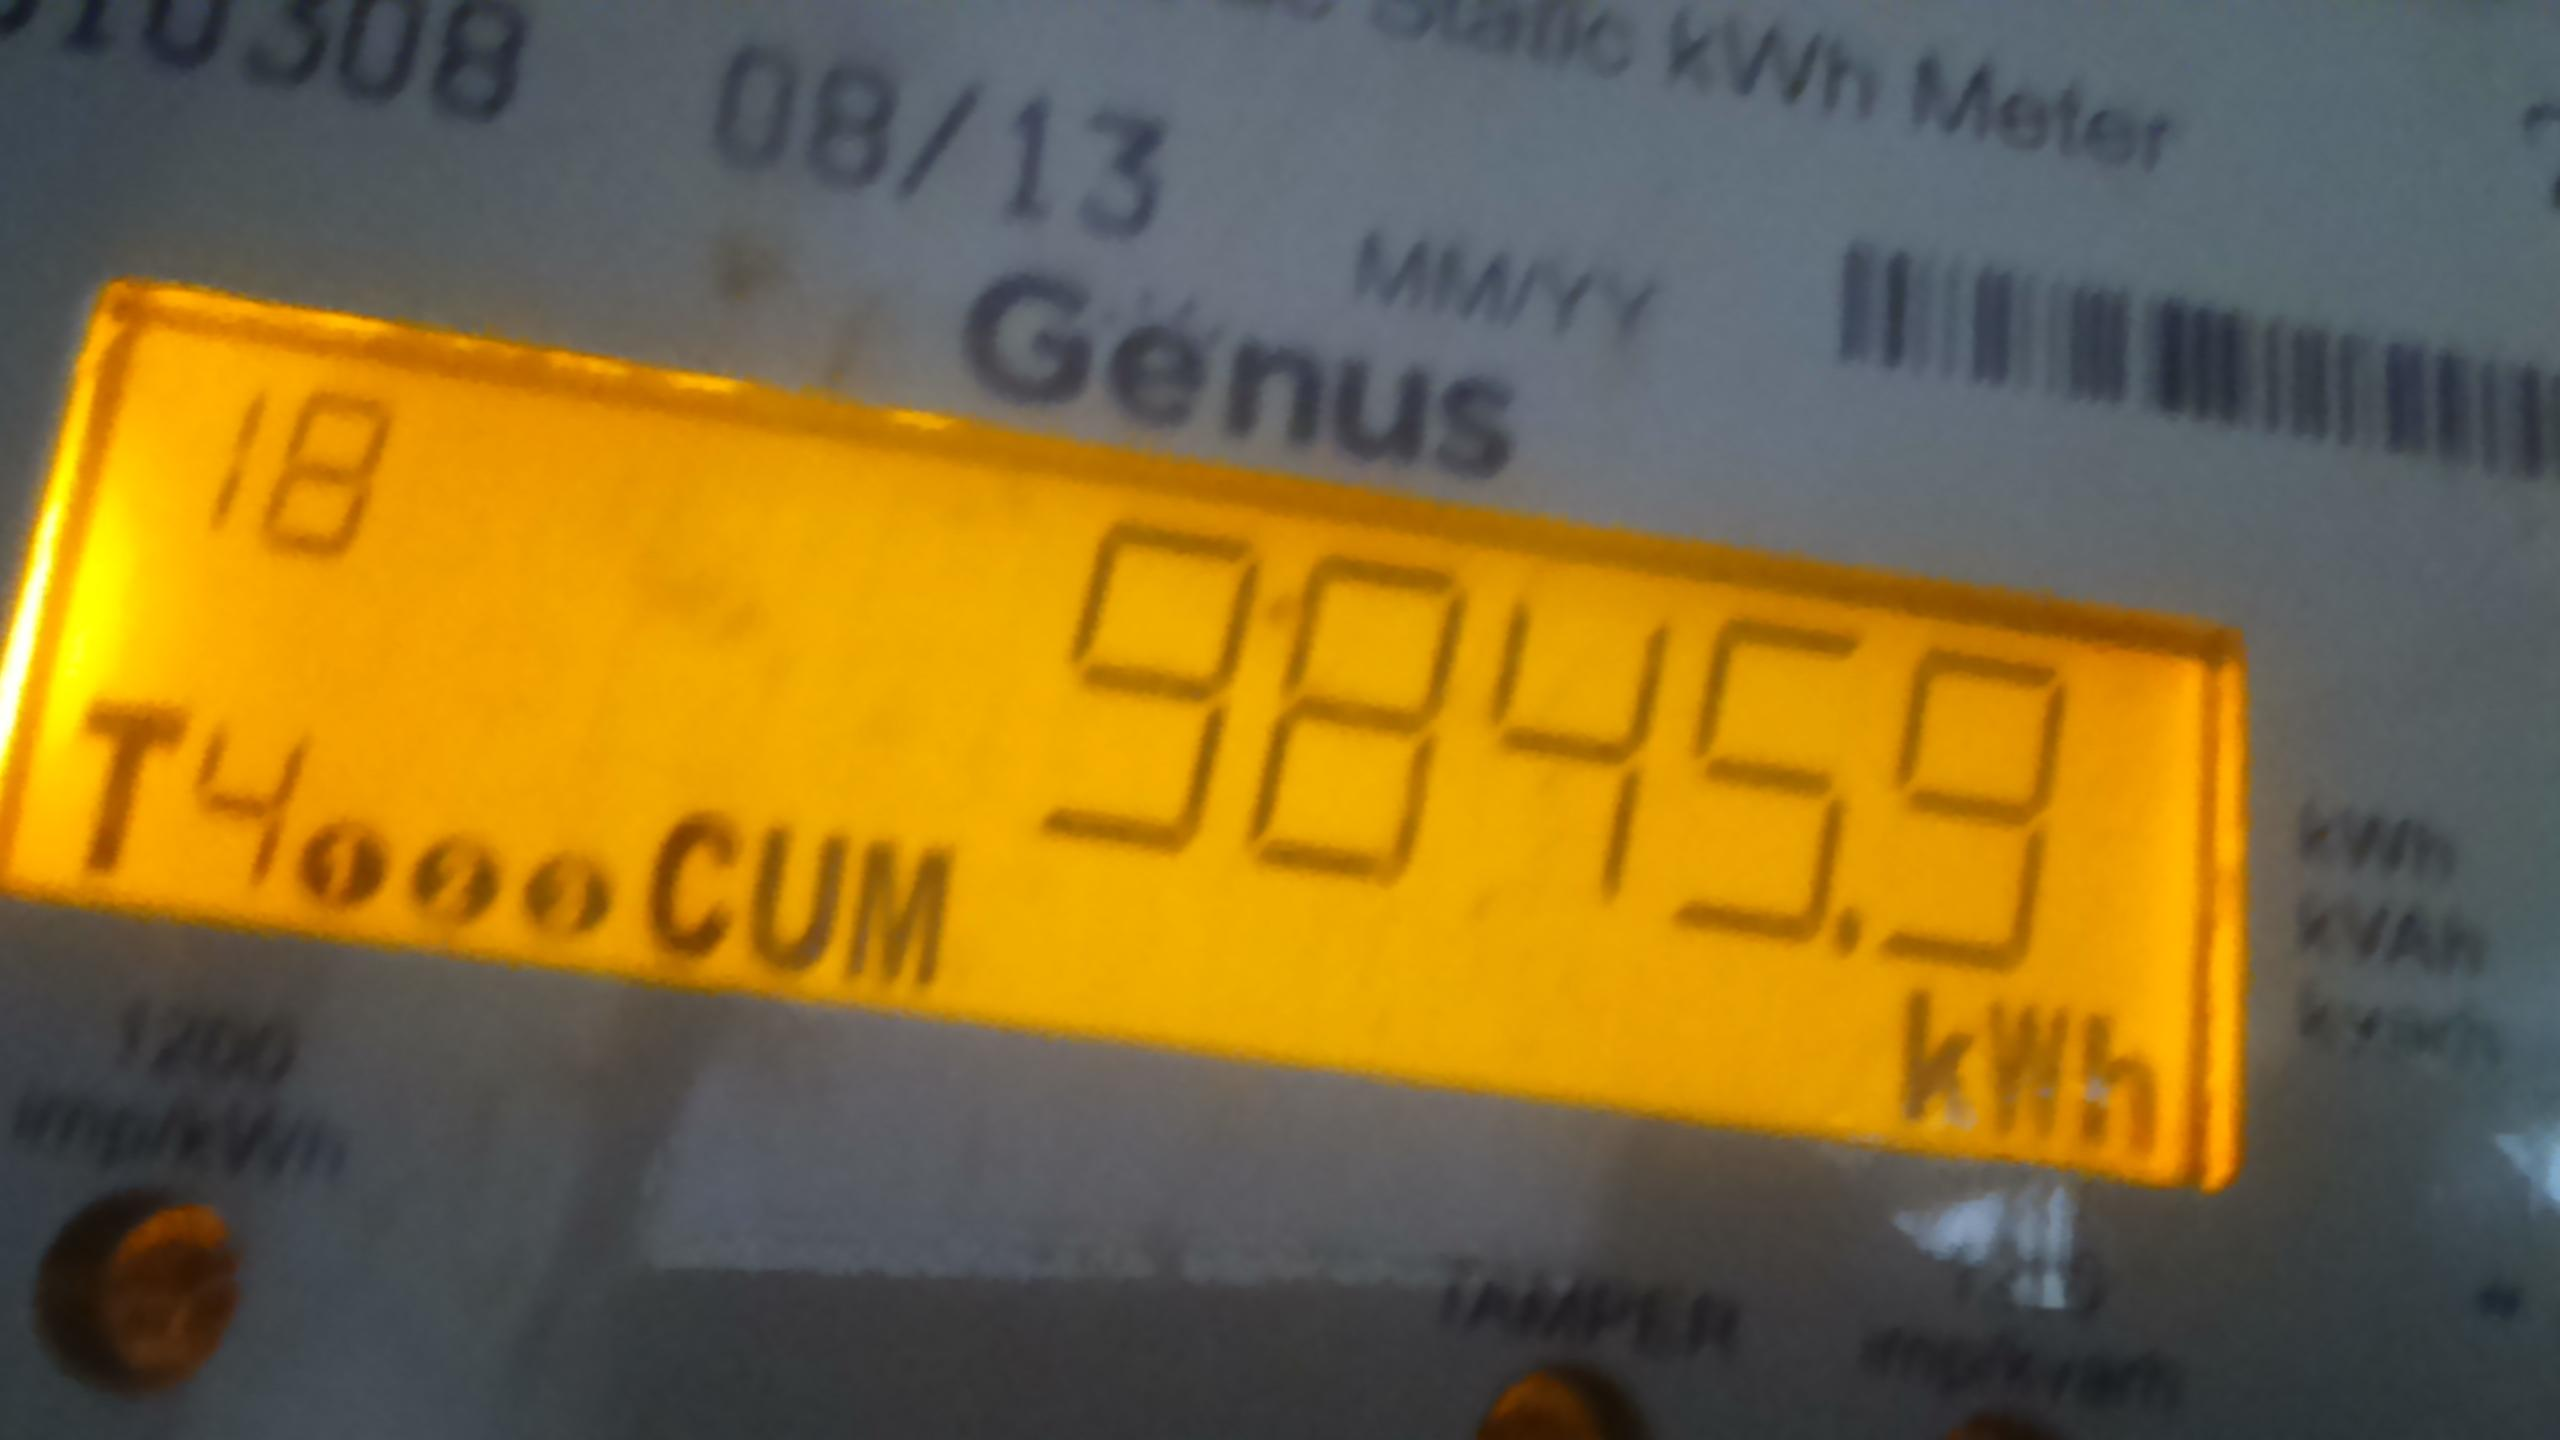.: (1876, 975, 2167, 1171)
0: (1807, 873, 1892, 992)
5: (1431, 588, 1717, 972)
6: (1631, 573, 1892, 972)
9: (1211, 528, 1502, 912)
object: (1831, 628, 2132, 1016), (1014, 508, 1272, 879)
